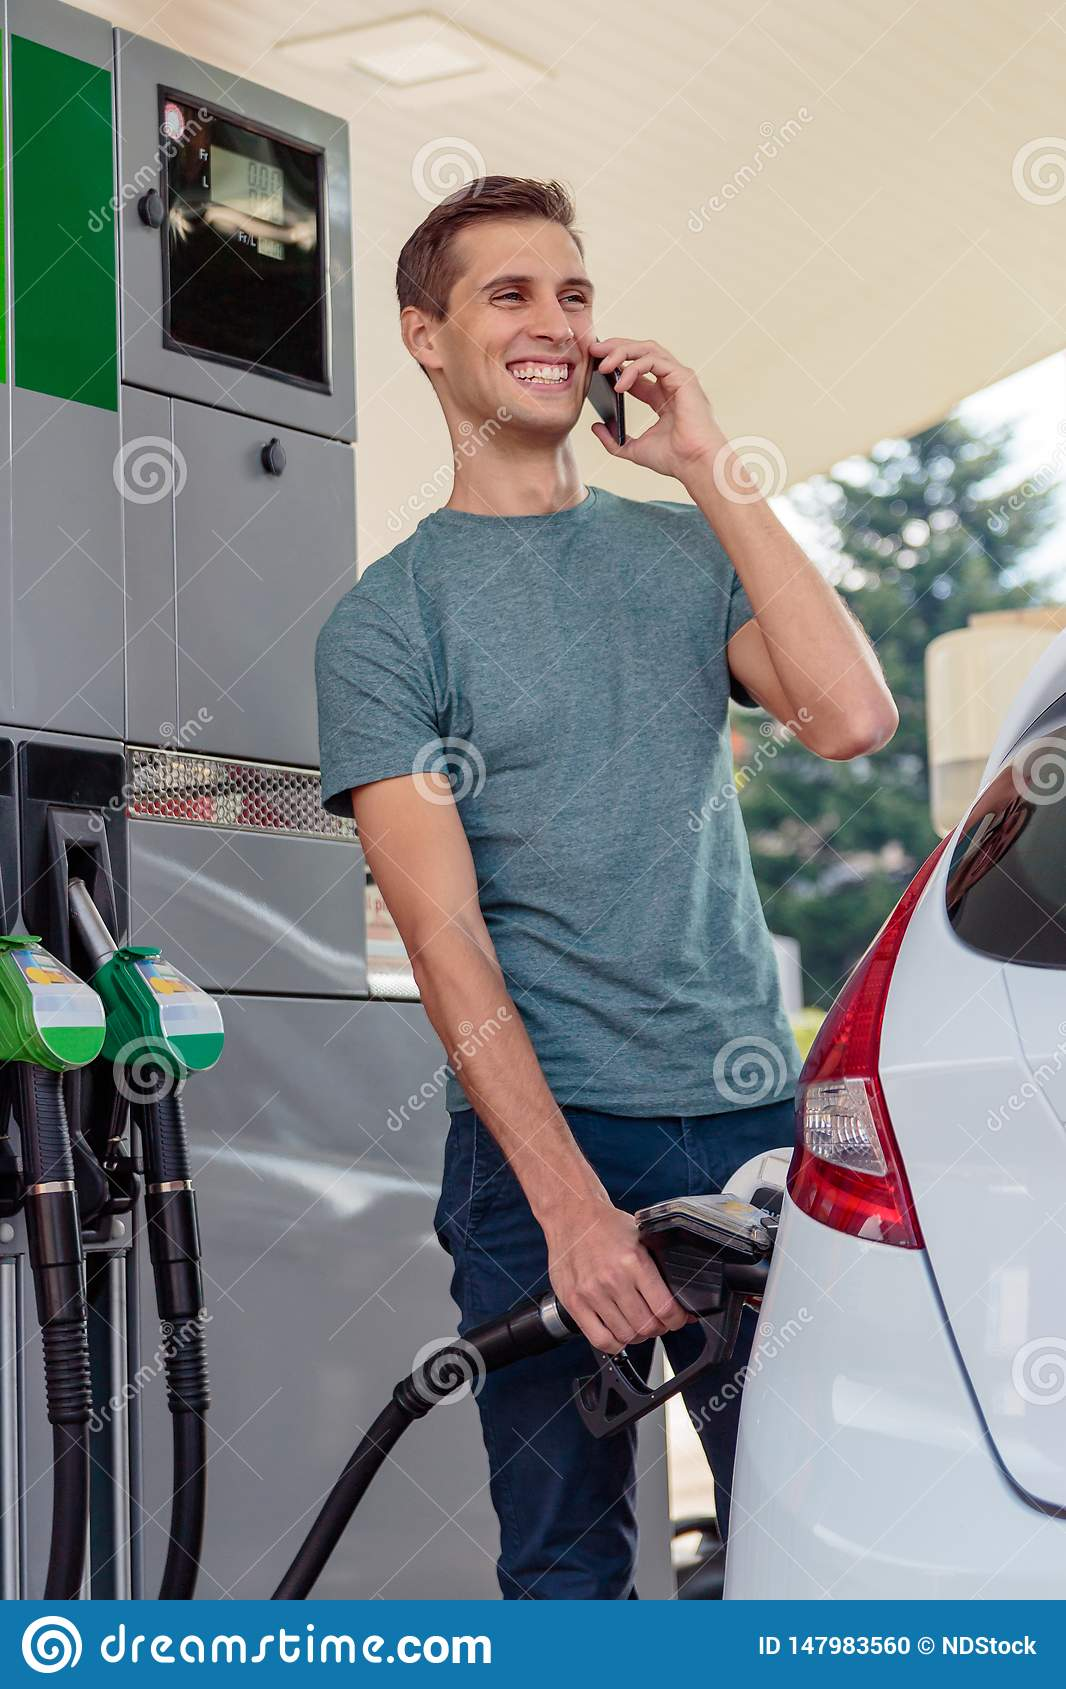phone: (585, 331, 629, 449)
talk: (465, 264, 734, 504)
